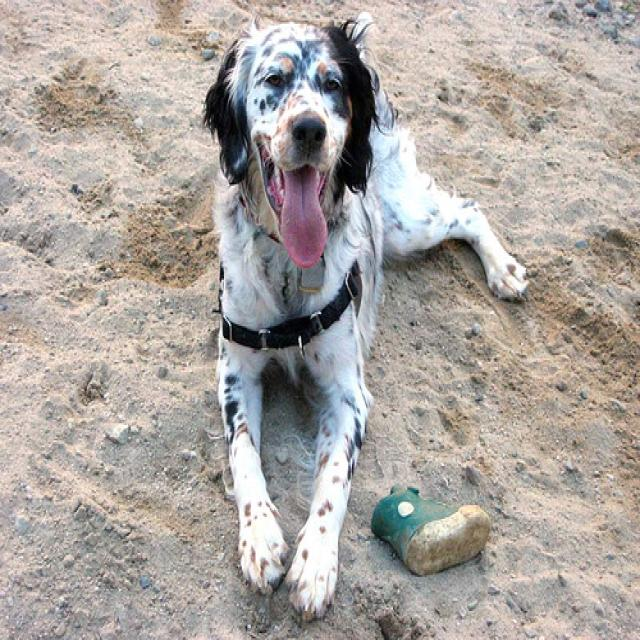dog-english_setter: (195, 3, 532, 621)
